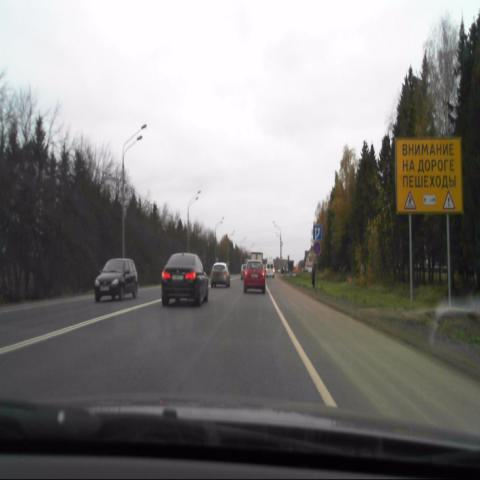1_33: (441, 189, 456, 210)
